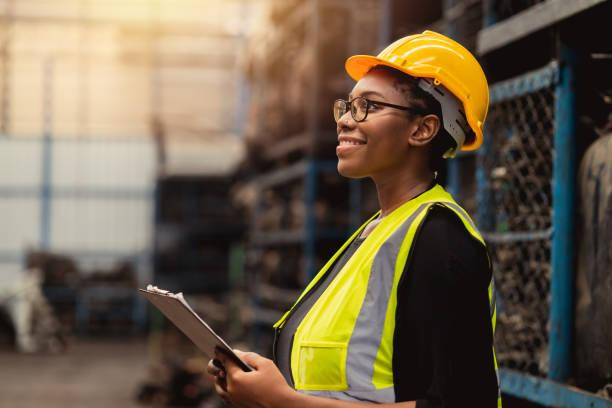capacete: (327, 21, 489, 144)
pessoa: (262, 11, 514, 408)
uniforme seguranca: (270, 195, 516, 408)
